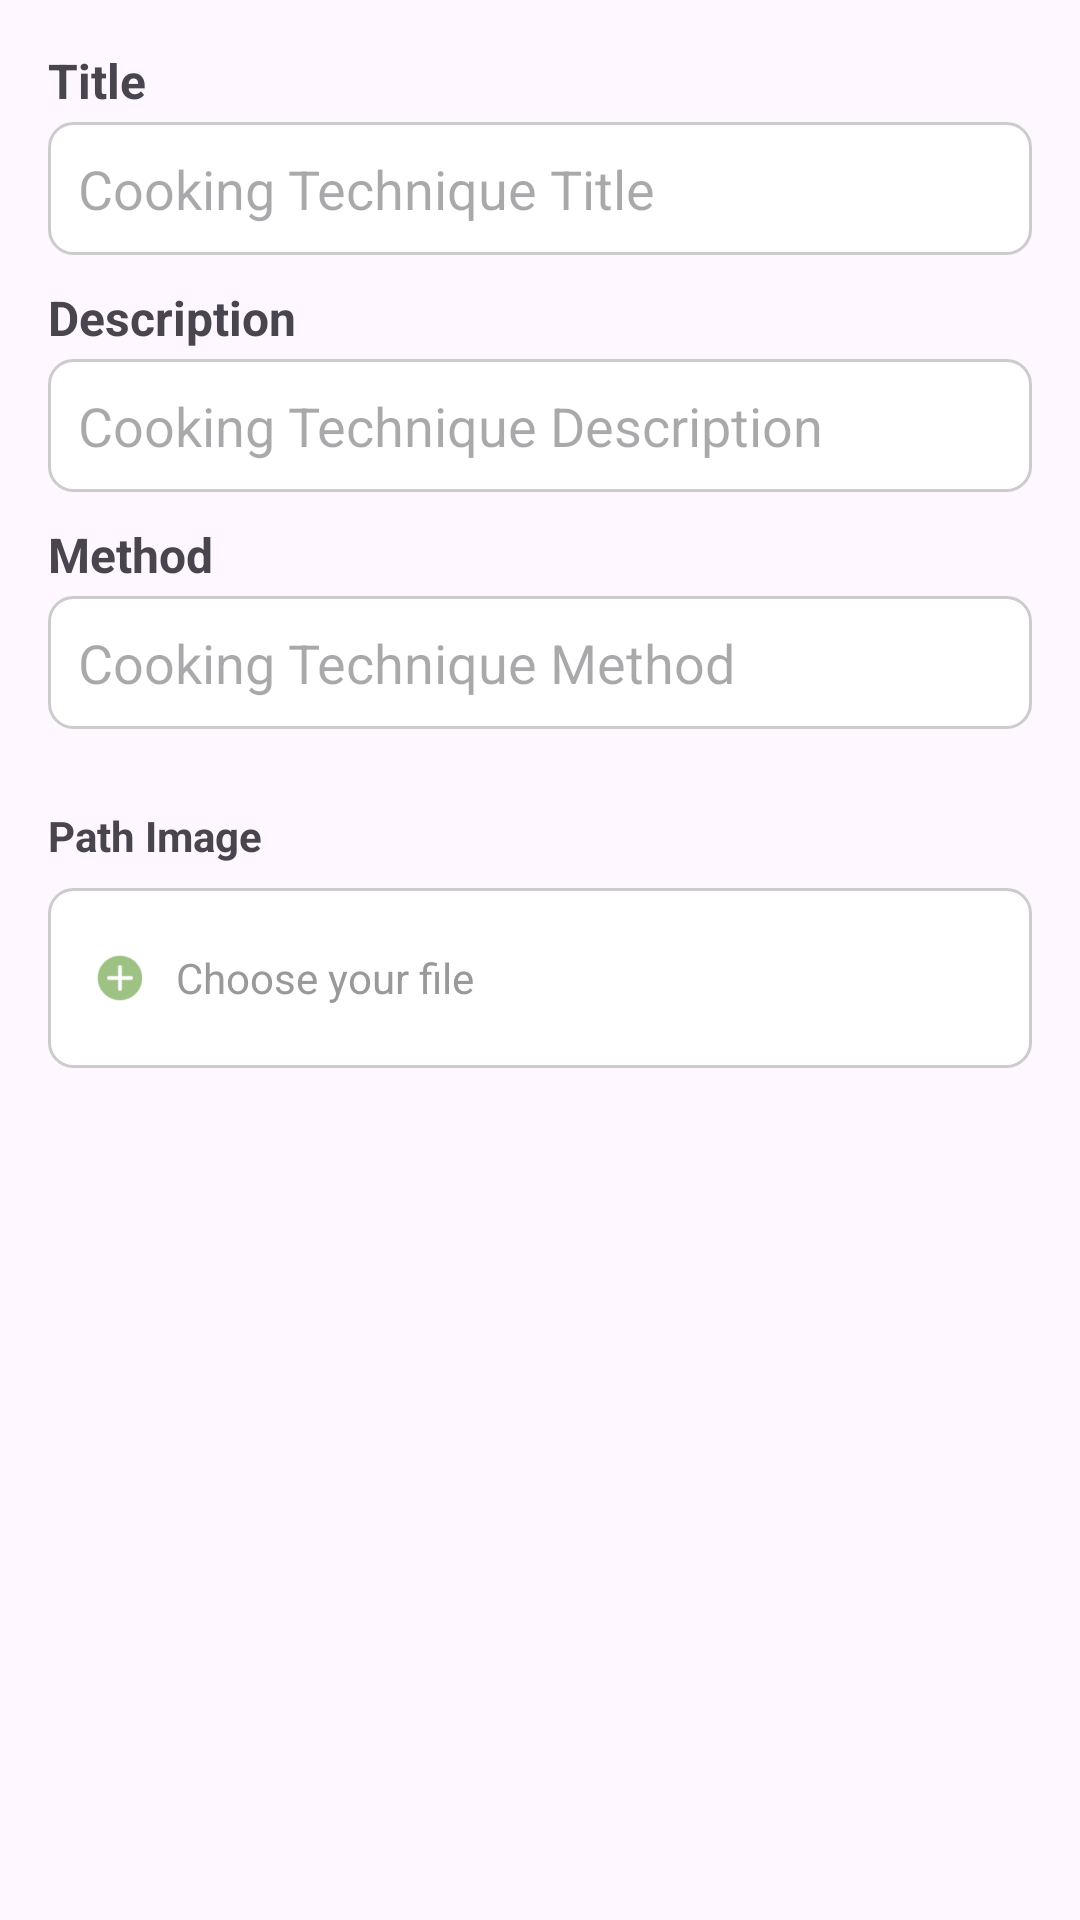

Screen size 1080 × 1920. Icon name, then its center in pixels as point (x, y):
add file: point (119, 978)
